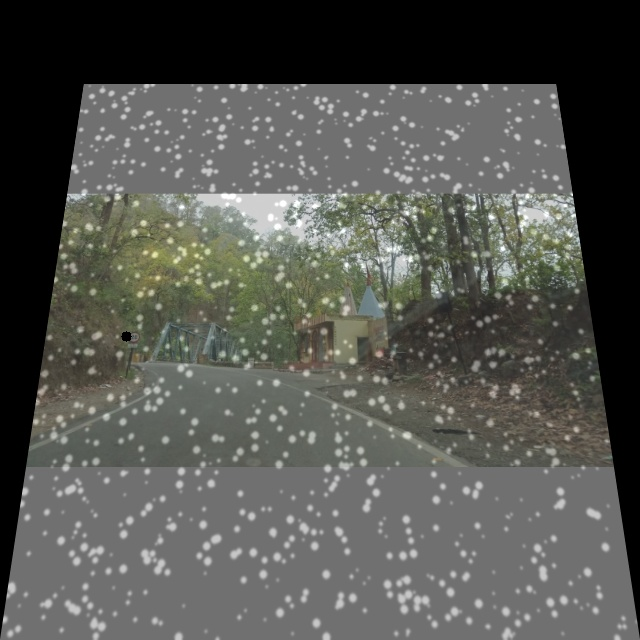Speed_Limit_20: (126, 328, 144, 344)
